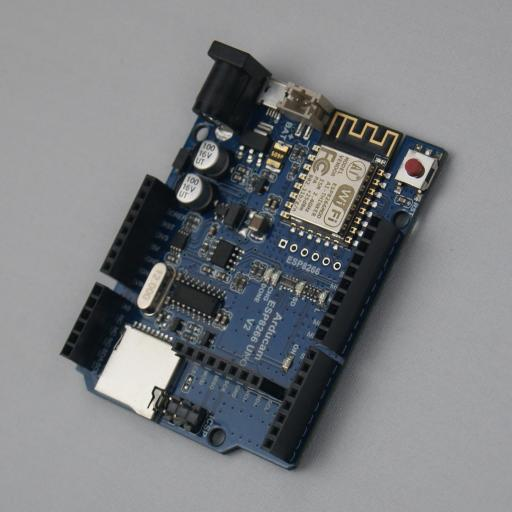Arduino Uno Camera Shield: (60, 40, 452, 472)
